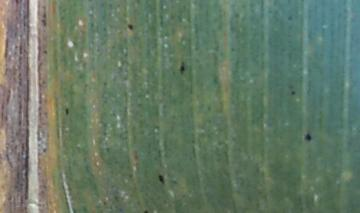tarspot: (178, 60, 189, 79), (303, 130, 314, 144), (62, 105, 72, 118), (157, 173, 167, 186), (124, 22, 138, 31), (289, 88, 297, 97), (143, 209, 151, 213)
